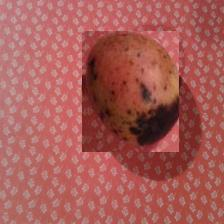Mango Semirotten: (82, 31, 179, 152)
